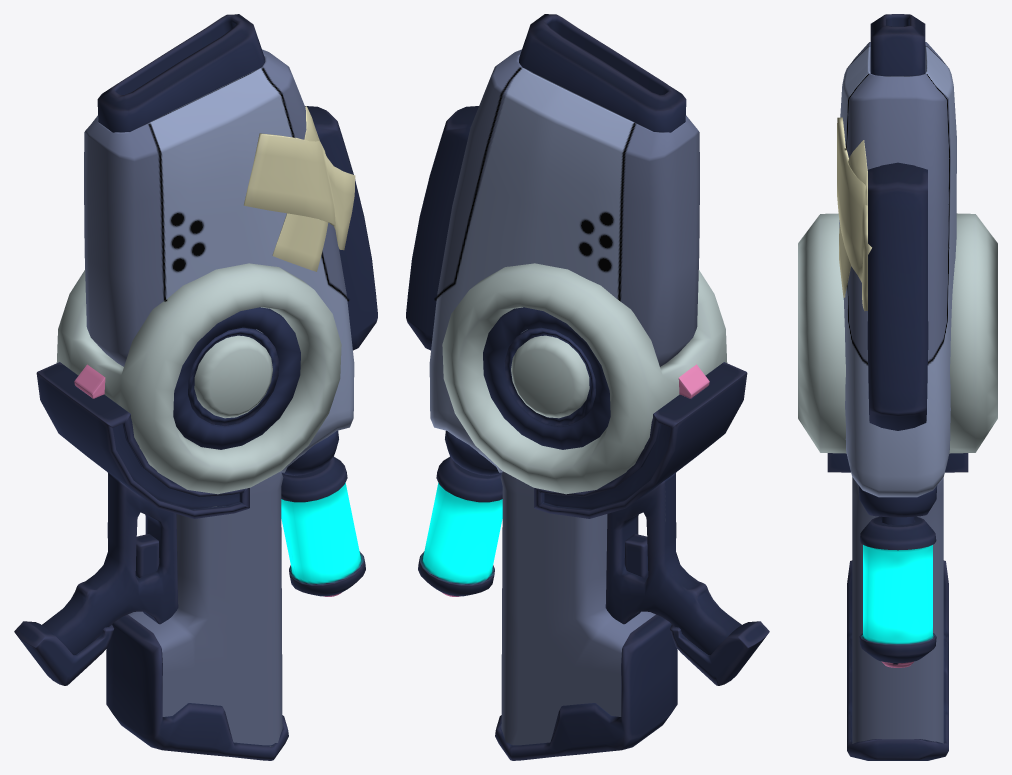
Rendered from blaster_weapon.fbx.
3 renders of one model, left to right at view 1: azimuth 30°, elevation 25°; view 2: azimuth 150°, elevation 25°; view 3: azimuth 270°, elevation 25°, orthographic.
Visible parts, largest first — view 1: Musketeer_Low_Rig_007:gun_mid; view 2: Musketeer_Low_Rig_007:gun_mid; view 3: Musketeer_Low_Rig_007:gun_mid.
Part boxes in pixels (box(x1,y1,x2,y2)): Musketeer_Low_Rig_007:gun_mid: box(14, 14, 377, 760); Musketeer_Low_Rig_007:gun_mid: box(406, 14, 769, 760); Musketeer_Low_Rig_007:gun_mid: box(798, 14, 997, 760).
Bounding box in the file's own units: 70.56 × 142 × 35.2.
